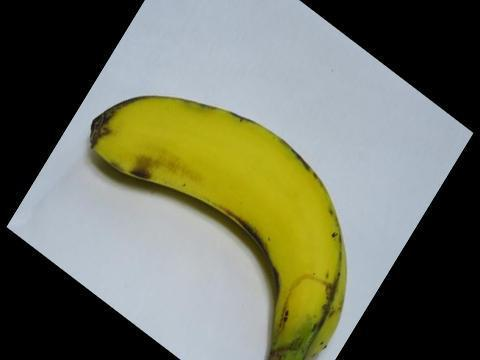freshripe: (80, 92, 353, 359)
